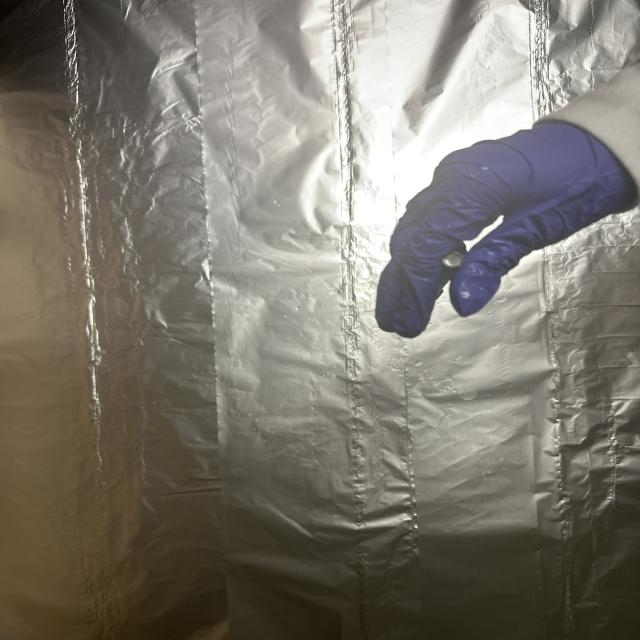gloves_contaminated: (376, 123, 635, 338)
